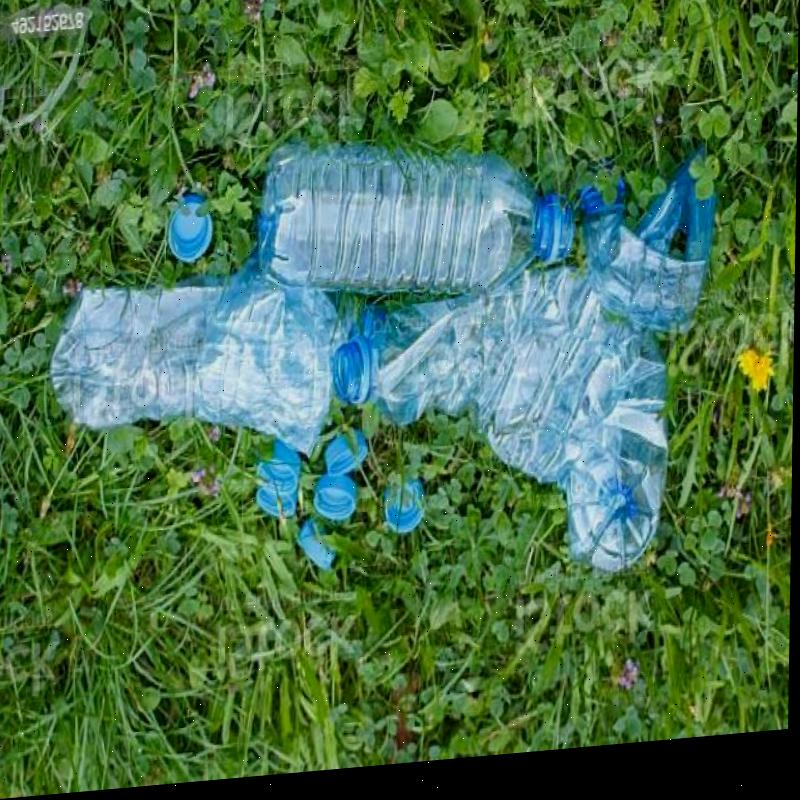botella: (329, 277, 672, 604), (50, 263, 347, 480), (260, 131, 574, 324), (582, 167, 720, 352)
